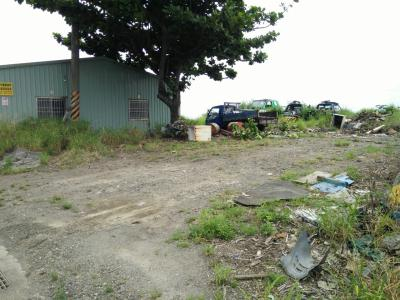box: (330, 113, 346, 132)
bucket: (193, 124, 212, 142)
